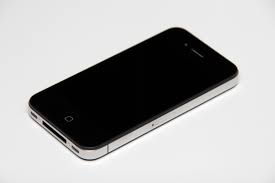iphone: (27, 24, 243, 162)
